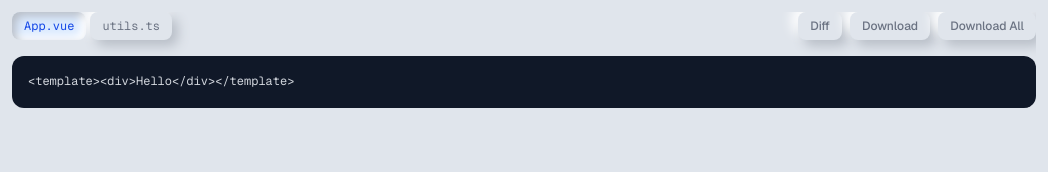
it: OutputPanel › switches to another file on tab click
Click the tab "utils.ts".
click(131, 26)  # box [90,12,172,40]
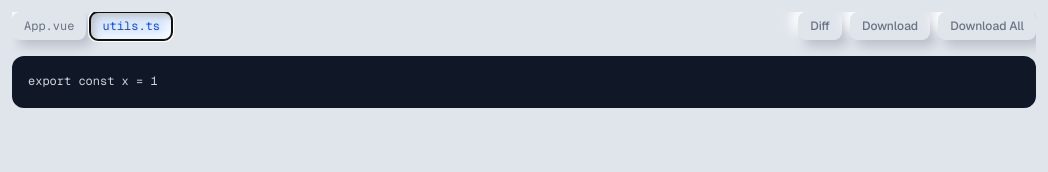
expect the text "export const x = 1" is shown: met, box [12,56,1036,108]
